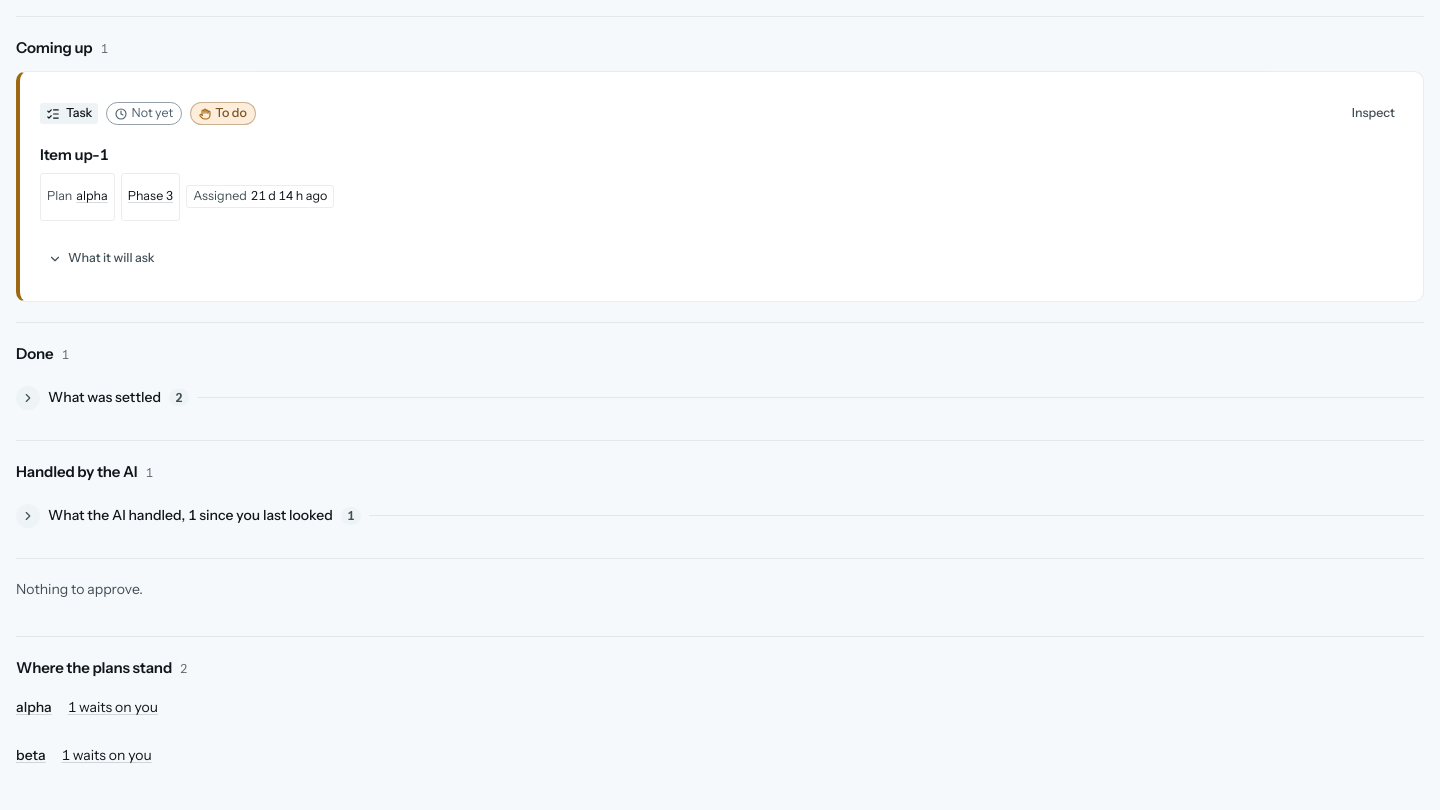
Test case: TP-6 the handled log › is the last section, folded with its count
The image size is (1440, 810).
(page scrolled)
Click the button "What the AI handled, 1 since you last looked 1".
click(190, 515)  # box x1=16 y1=494 x2=1424 y2=538
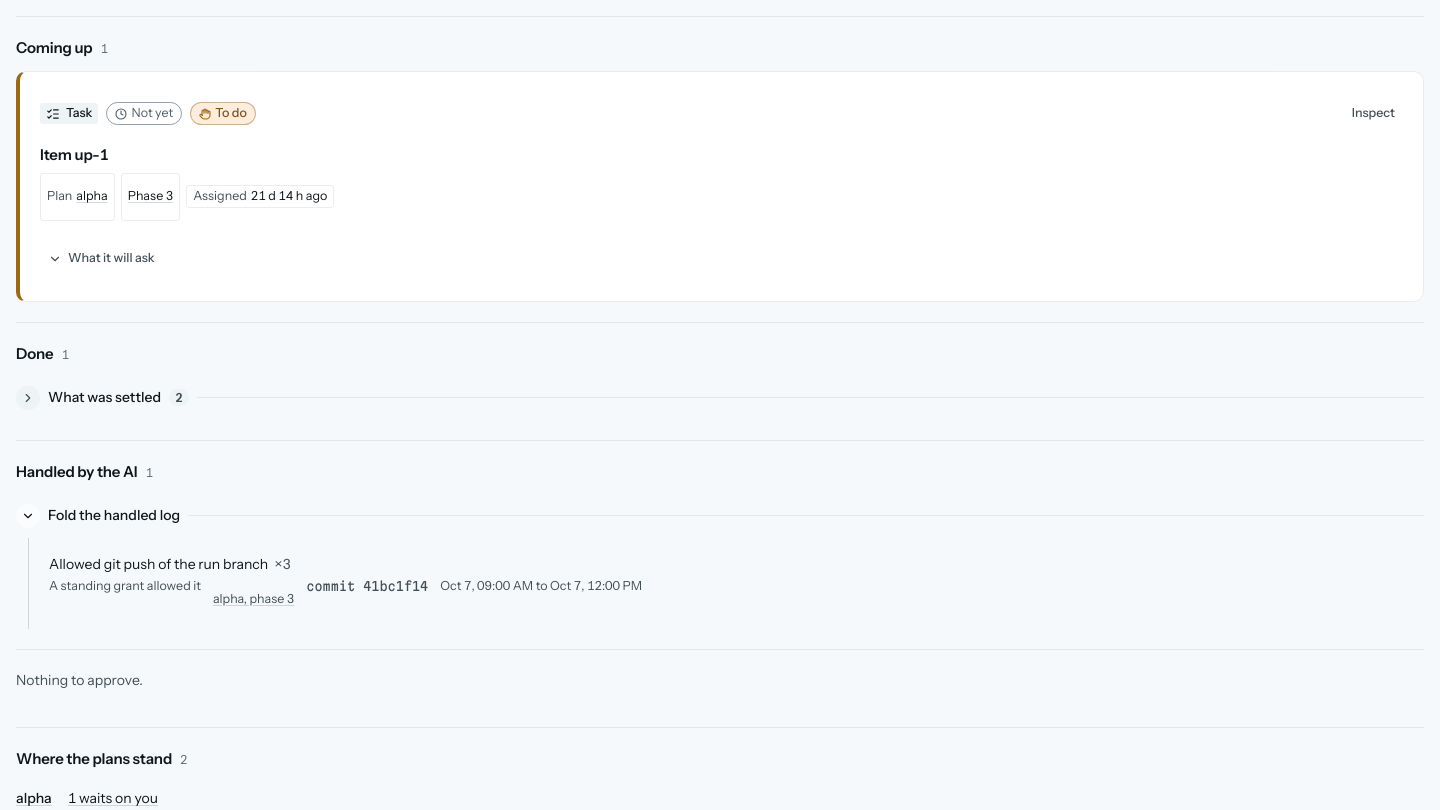
Now the list item with test id "turn-handled-row" shows "A standing grant allowed it", box x1=49 y1=578 x2=201 y2=593
Now the list item with test id "turn-handled-row" shows "×3", box x1=49 y1=555 x2=642 y2=606
Now the list item with test id "turn-handled-row" shows "commit 41bc1f14", box x1=306 y1=578 x2=428 y2=594
